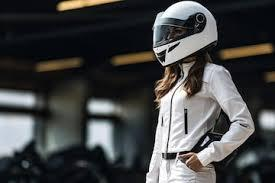Helmet: (153, 2, 216, 66)
